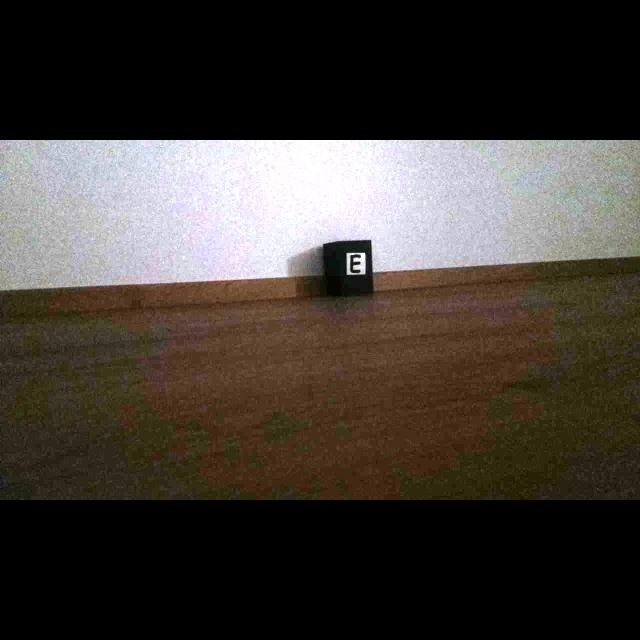E: (350, 254, 362, 273)
